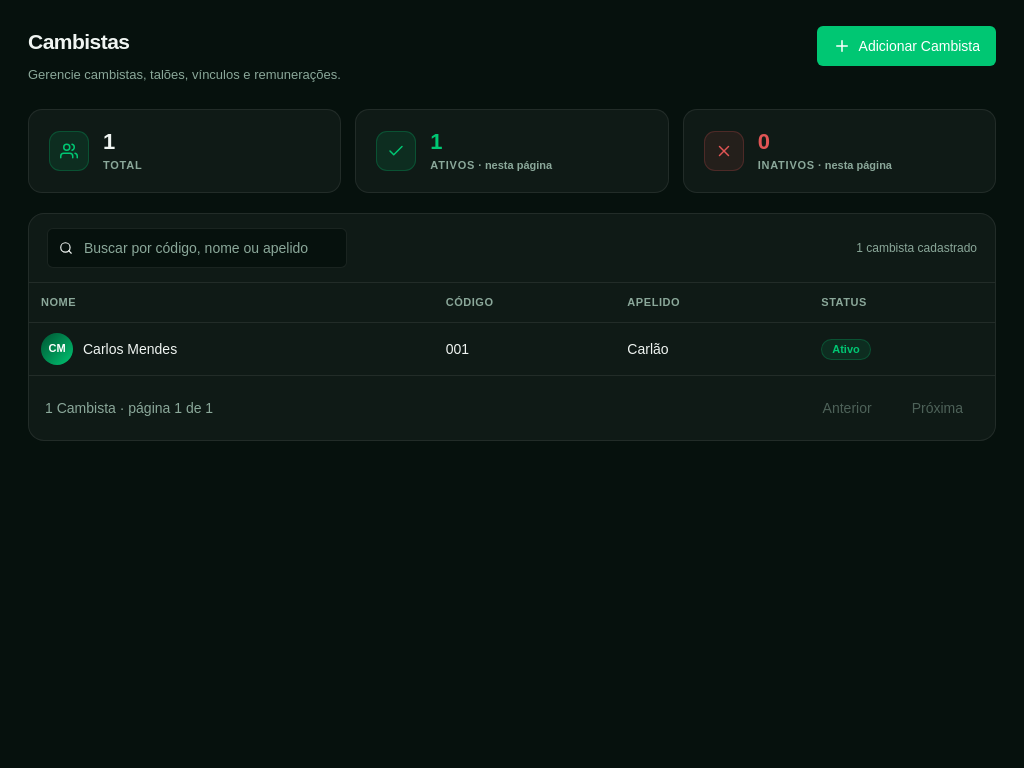
Test: CambistasPage — modo view/edit (detalhe) › clicar em uma linha abre o detalhe em modo visualização (consulta por id)
Click the cell "Carlos Mendes": click(57, 349) [29, 323, 434, 375]
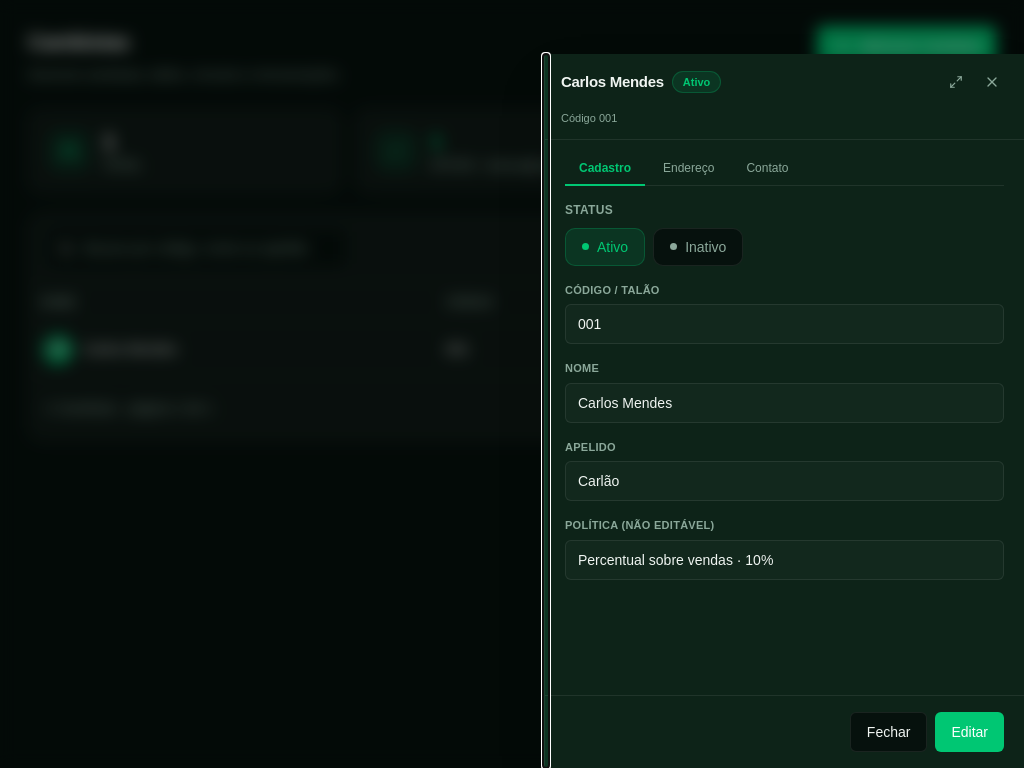
Now the heading "Carlos Mendes" is shown, box [561, 71, 664, 93]
Now the text "Código 001" is shown, box [561, 112, 617, 124]
Now the button "Editar" is shown, box [935, 712, 1004, 752]
